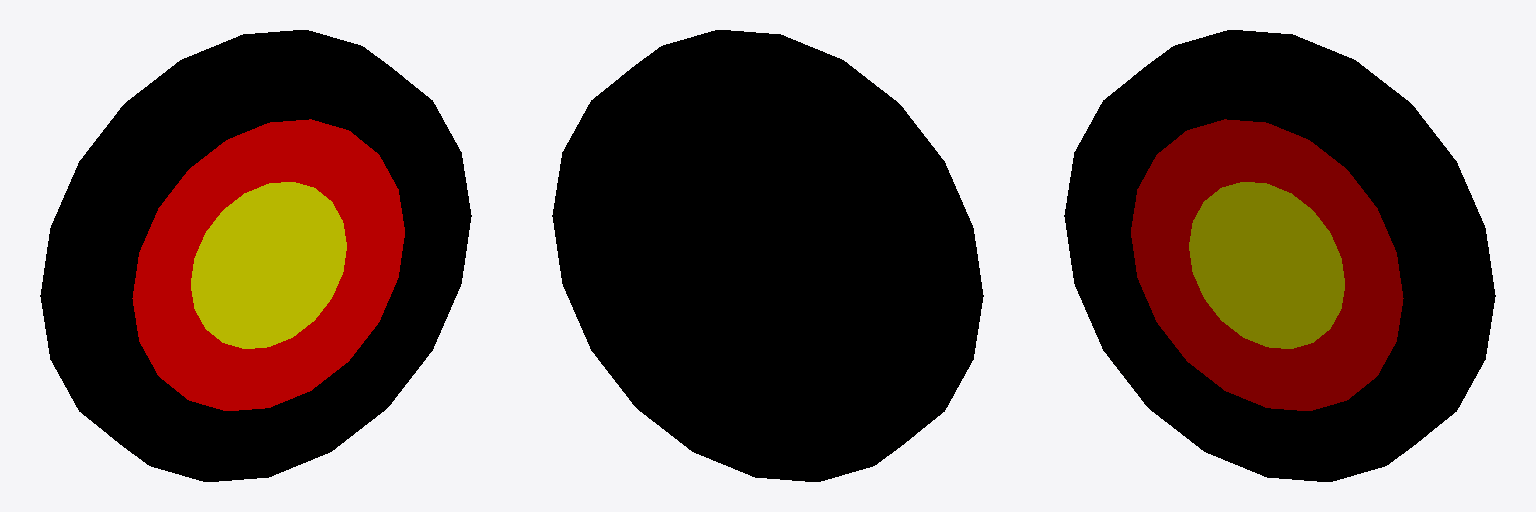
The model's file is target.obj.
3 views of the same model, side by side, from view 1: azimuth 30°, elevation 25°; view 2: azimuth 150°, elevation 25°; view 3: azimuth 330°, elevation 25° (orthographic).
Visible parts, largest first — view 1: target:pCylinder1; view 2: target:pCylinder1; view 3: target:pCylinder1.
Part boxes in pixels (left/top/right/bottom): target:pCylinder1: left=40, top=30, right=471, bottom=481; target:pCylinder1: left=552, top=30, right=983, bottom=481; target:pCylinder1: left=1064, top=30, right=1495, bottom=481.
Bounding box in the file's own units: 2 × 2 × 0.2197.